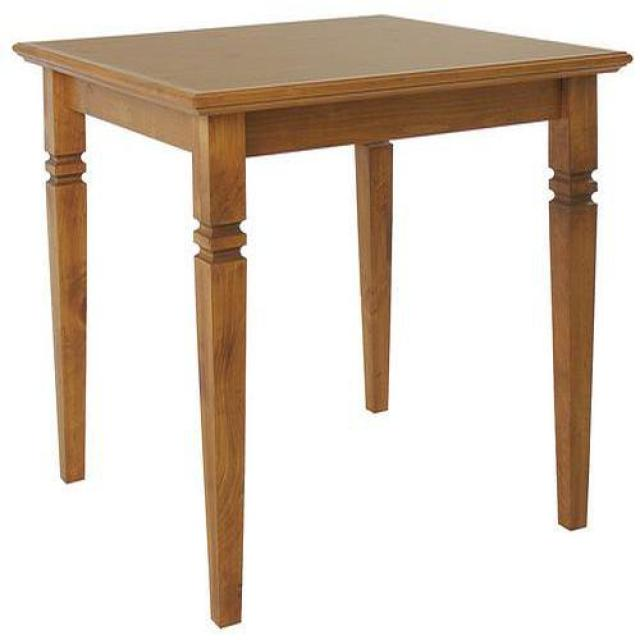table: (13, 14, 634, 628)
